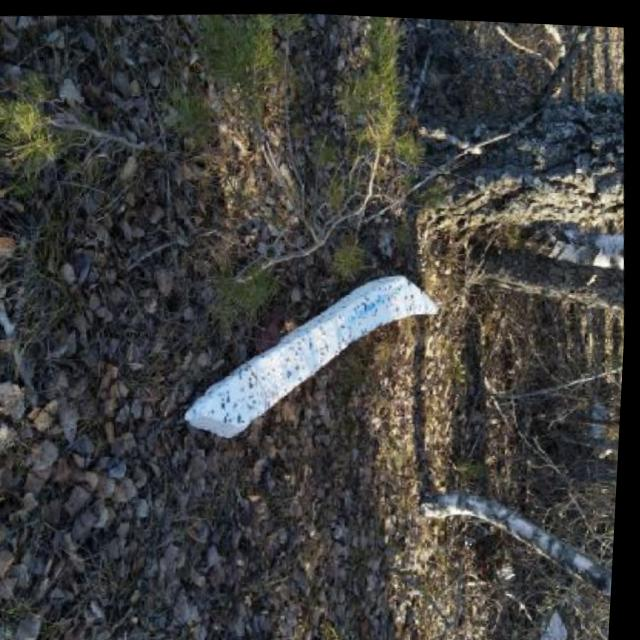foam: (172, 263, 446, 451)
